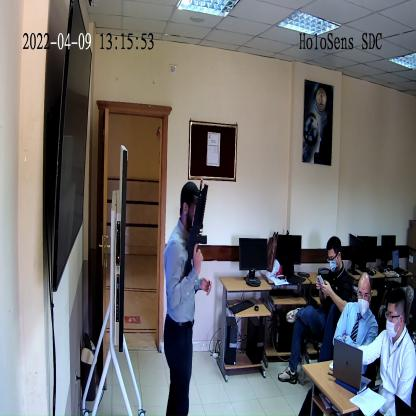handgun: (184, 184, 209, 284)
